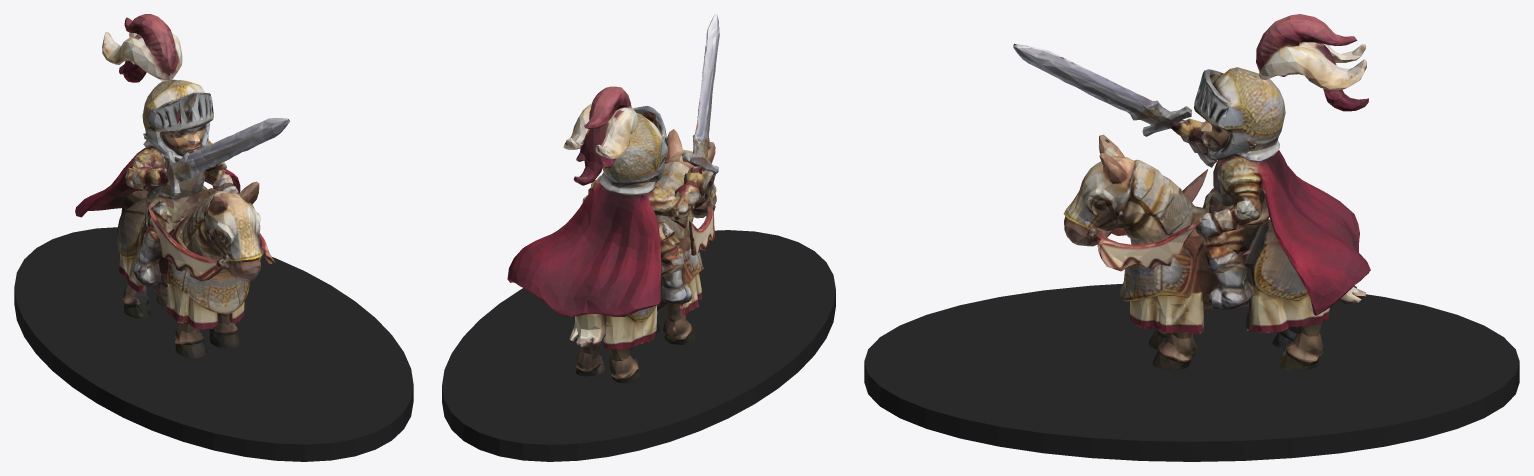
Rendered from cavalier-marshal.glb.
3 renders of one model, left to right at view 1: azimuth 30°, elevation 25°; view 2: azimuth 150°, elevation 25°; view 3: azimuth 270°, elevation 25°, orthographic. The views are drawn at different scales.
Visible parts, largest first — view 1: base, figure; view 2: base, figure; view 3: base, figure.
Boxes of the visible parts, bbox=[...] form: base: bbox=[14, 227, 413, 461]; figure: bbox=[75, 14, 289, 358]; base: bbox=[442, 230, 835, 461]; figure: bbox=[507, 14, 719, 383]; base: bbox=[864, 283, 1519, 461]; figure: bbox=[1013, 14, 1370, 370].
Bounding box in the file's own units: 2.05 × 2.12 × 3.54.
2 materials, 1 textured.
